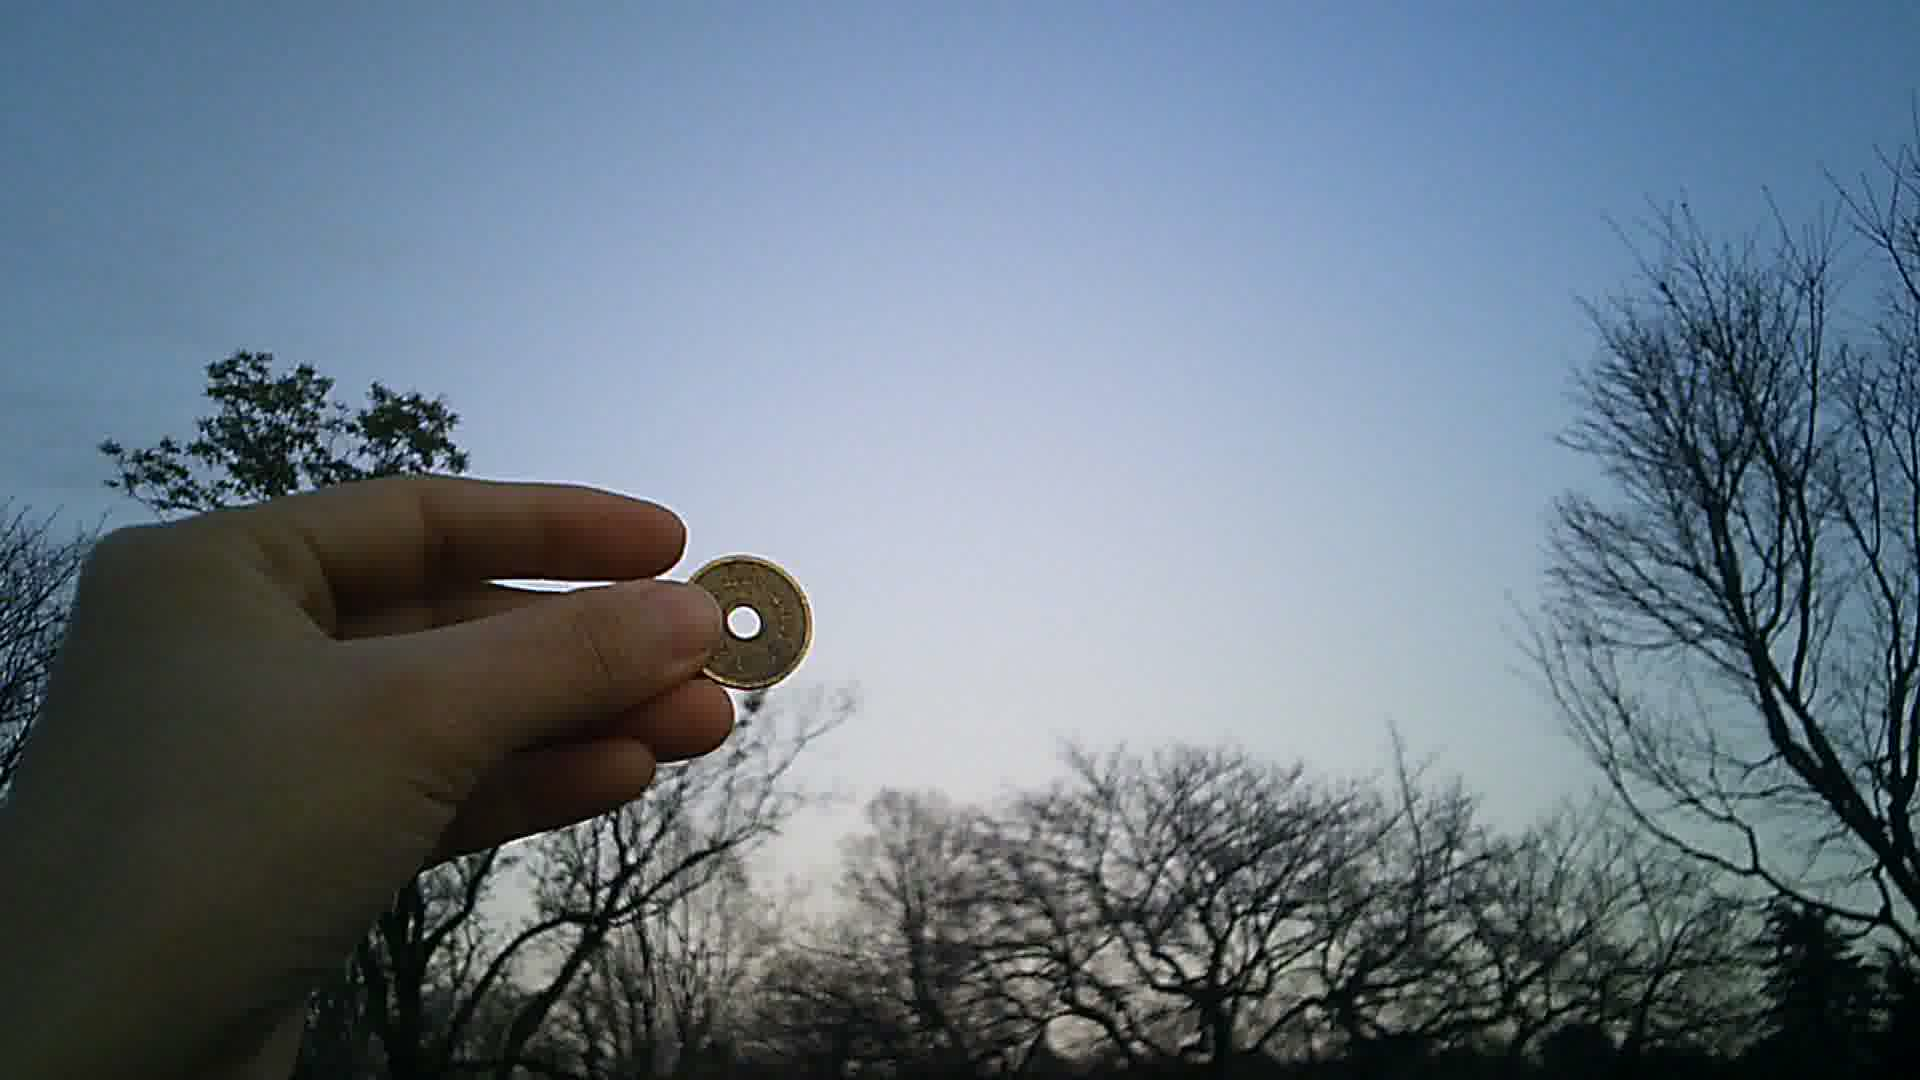5 Yen: (675, 542, 819, 691)
